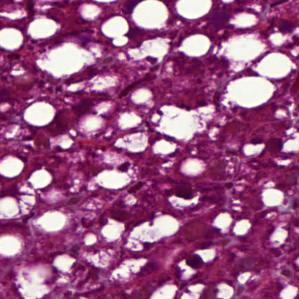ballooning: (149, 101, 219, 144)
